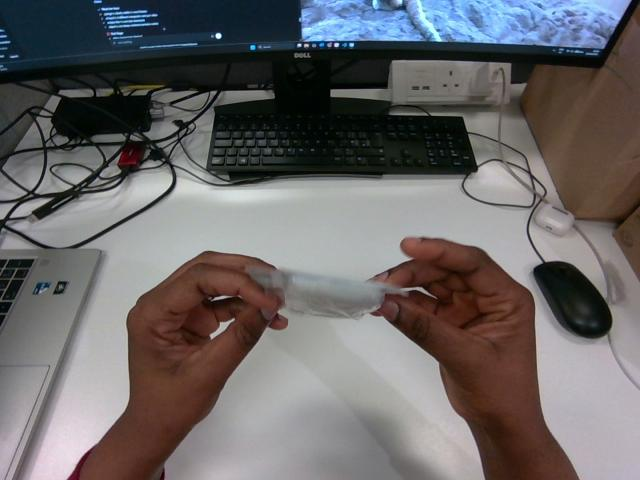gauze: (246, 266, 405, 318)
